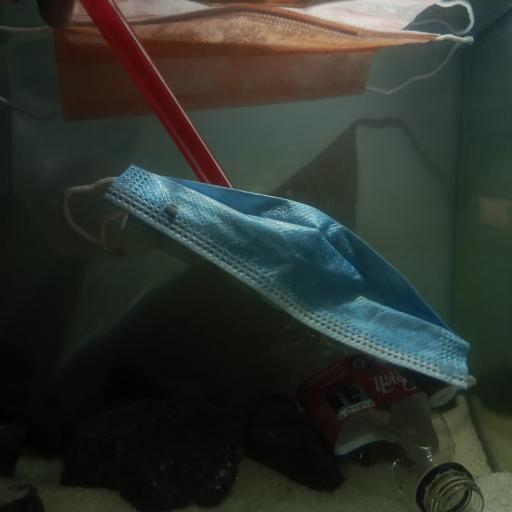mask: (63, 163, 477, 408), (0, 5, 474, 124)
plastic_bottle: (267, 309, 484, 512)
plastic_straw: (84, 0, 234, 187)
